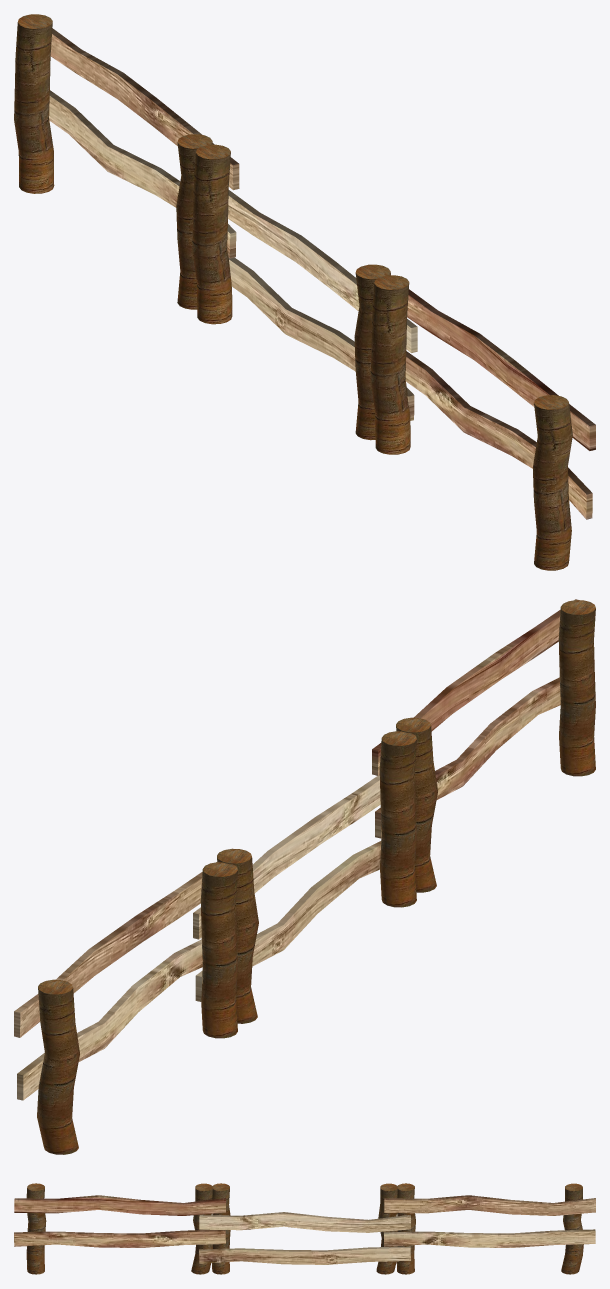
File: Rangé 3 barrières droites alternatives.FBX
3 renders of one model, top to bottom at view 1: azimuth 30°, elevation 25°; view 2: azimuth 150°, elevation 25°; view 3: azimuth 270°, elevation 25°, orthographic. The views are drawn at different scales.
Parts seen in each view (by area): view 1: Barrières droites; view 2: Barrières droites; view 3: Barrières droites.
Boxes of the visible parts, bbox=[...] form: Barrières droites: bbox=[14, 14, 595, 570]; Barrières droites: bbox=[14, 599, 595, 1154]; Barrières droites: bbox=[14, 1183, 595, 1274].
Size of the model in its own units: 18.64 by 59.94 by 377.
